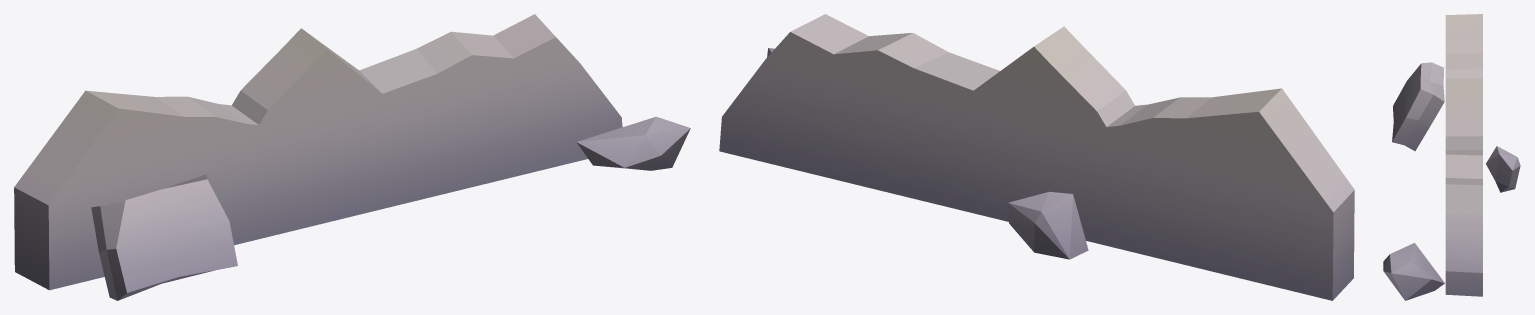
Rendered from Broken_Wall_3.fbx.
3 renders of one model, left to right at view 1: azimuth 30°, elevation 25°; view 2: azimuth 150°, elevation 25°; view 3: azimuth 270°, elevation 25°, orthographic. The views are drawn at different scales.
Visible parts, largest first — view 1: Broken Wall 3; view 2: Broken Wall 3; view 3: Broken Wall 3.
Part boxes in pixels (<box>): Broken Wall 3: <box>14,14,690,300</box>; Broken Wall 3: <box>719,14,1354,300</box>; Broken Wall 3: <box>1383,14,1520,300</box>.
Bounding box in the file's own units: 817 × 223 × 235.
